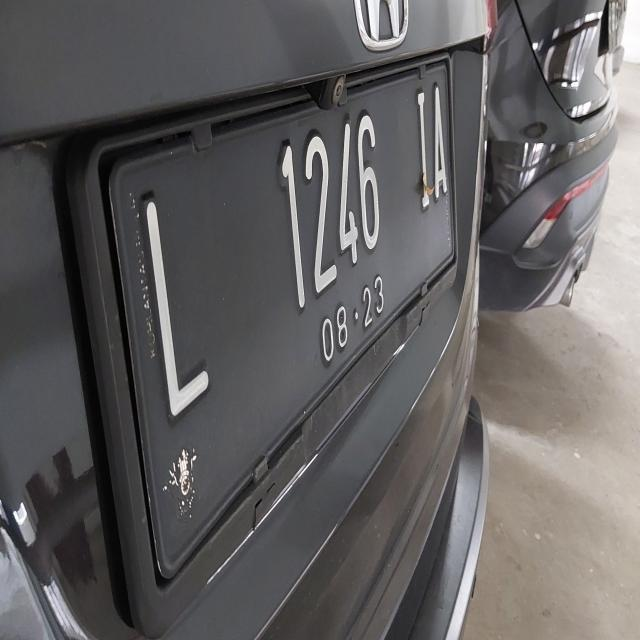1: (269, 118, 310, 344)
2: (296, 98, 343, 310)
4: (330, 77, 363, 286)
6: (351, 81, 393, 272)
A: (430, 60, 458, 216)
I: (407, 76, 434, 224)
L: (134, 184, 226, 436)
